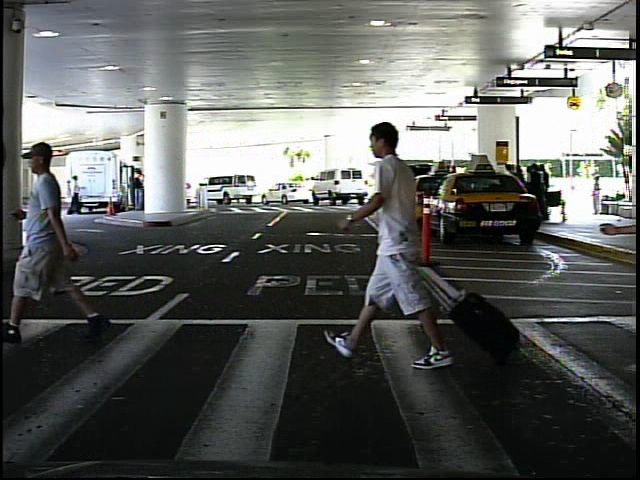person: (358, 111, 456, 377), (66, 172, 84, 222), (588, 172, 607, 218)
